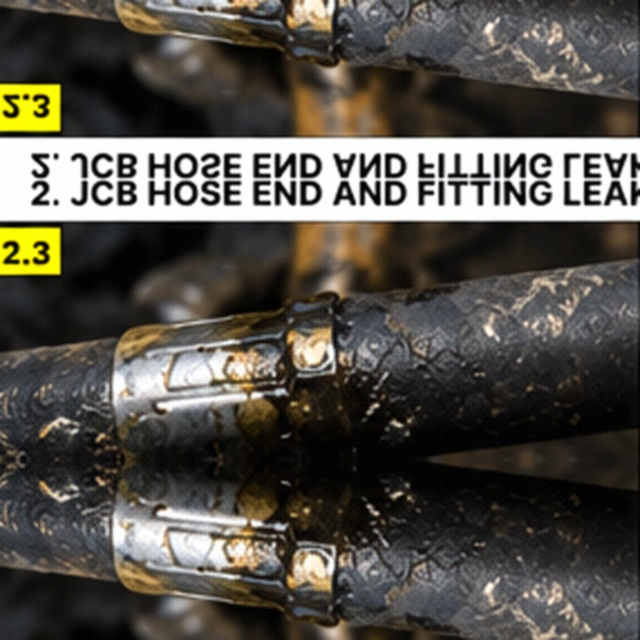hydraulic_oil_leak: (174, 174, 425, 433)
